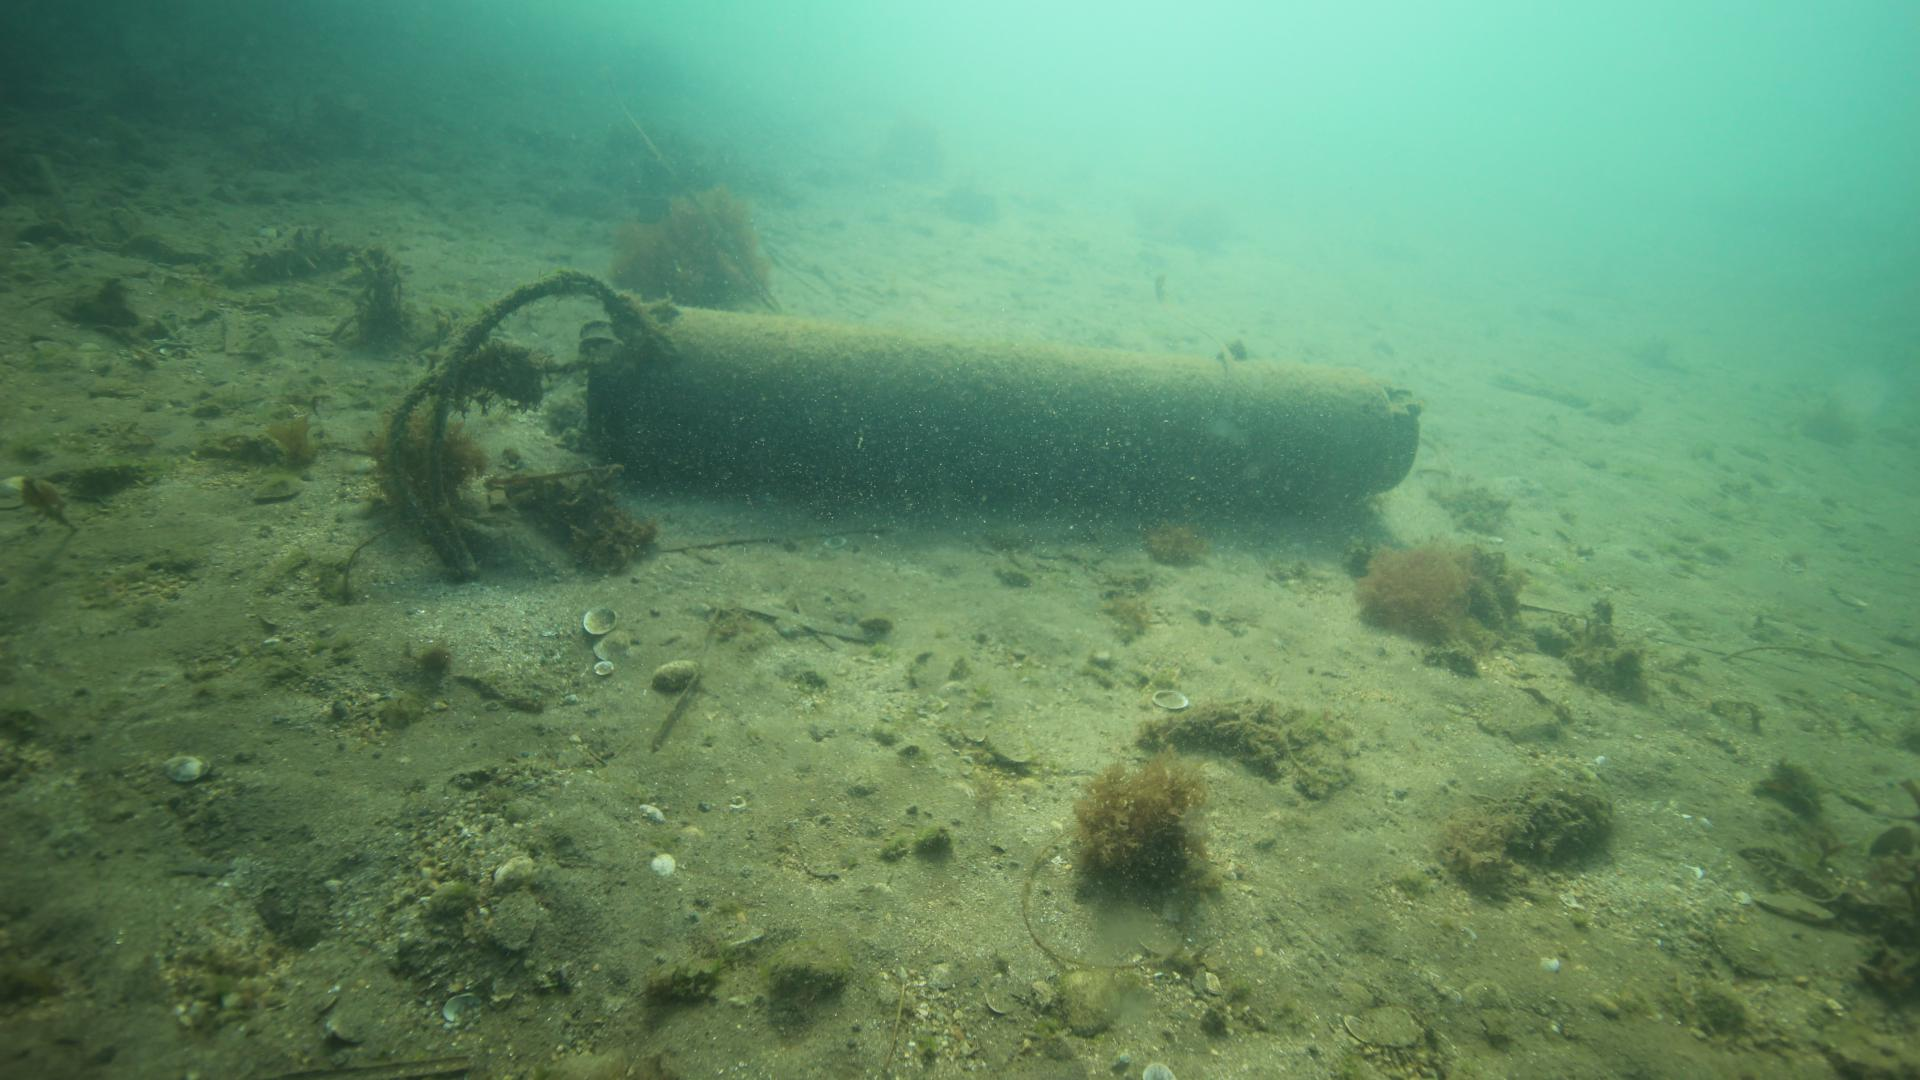bundle of ropes: (385, 266, 654, 582)
eel fish trap: (576, 301, 1422, 496)
